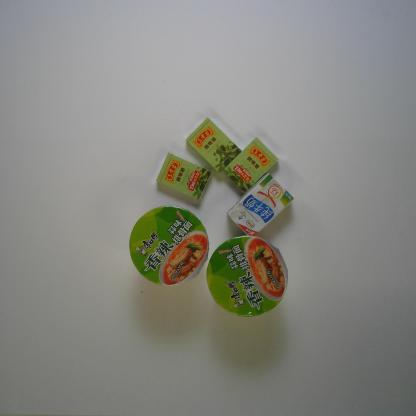Candy: (222, 136, 280, 193), (185, 118, 242, 173), (156, 152, 212, 200)
Instant Noodles: (206, 234, 289, 317), (128, 206, 210, 286)
Milk: (226, 172, 295, 238)
